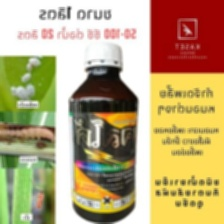insecticide: (64, 40, 142, 224)
